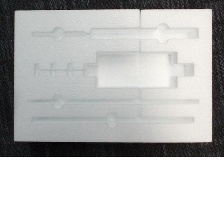foam_box: (9, 4, 215, 147)
